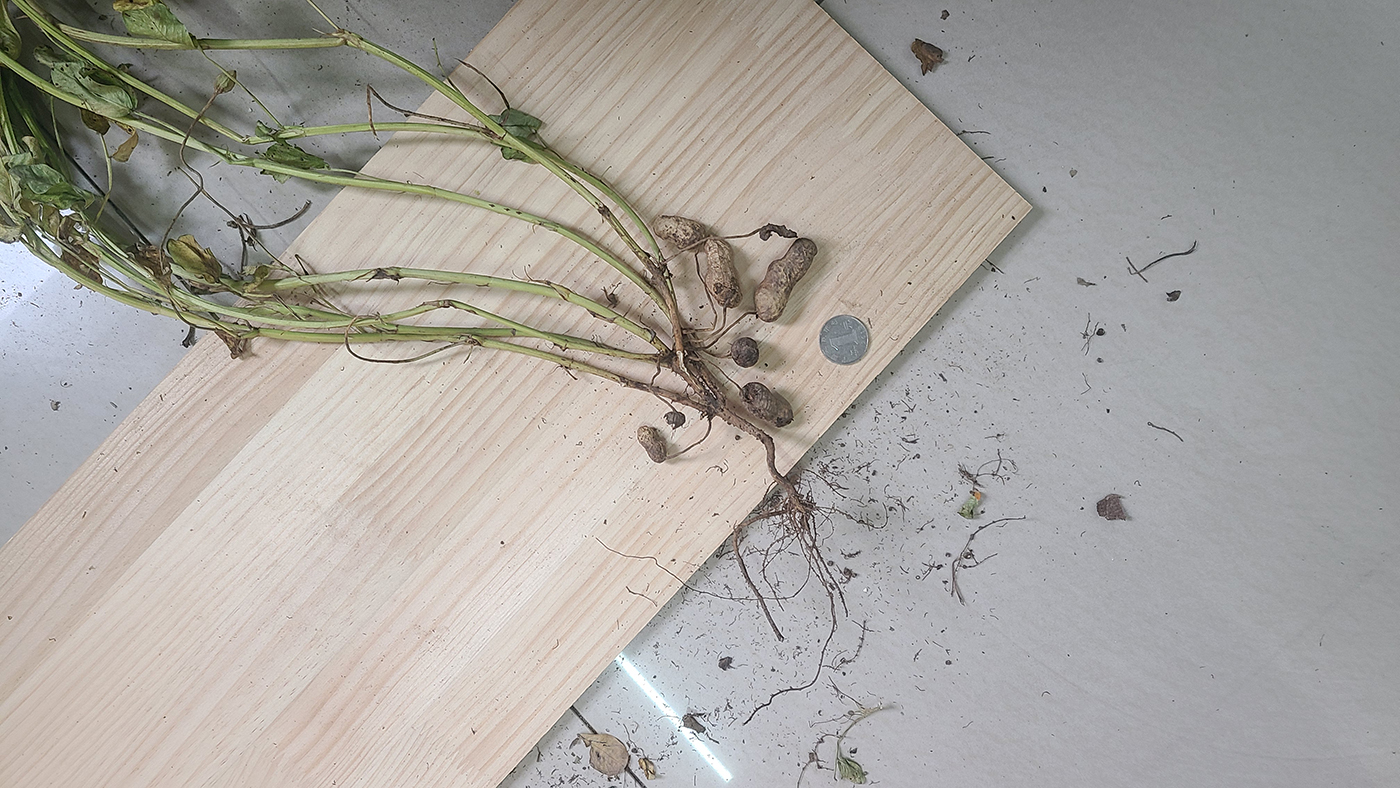h: (652, 214, 706, 250)
l: (753, 238, 819, 322), (705, 234, 743, 306), (739, 381, 795, 428), (636, 426, 666, 463), (732, 337, 760, 369), (759, 222, 798, 241), (665, 412, 687, 429)
